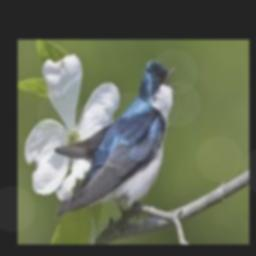Swallow: (54, 59, 178, 219)
